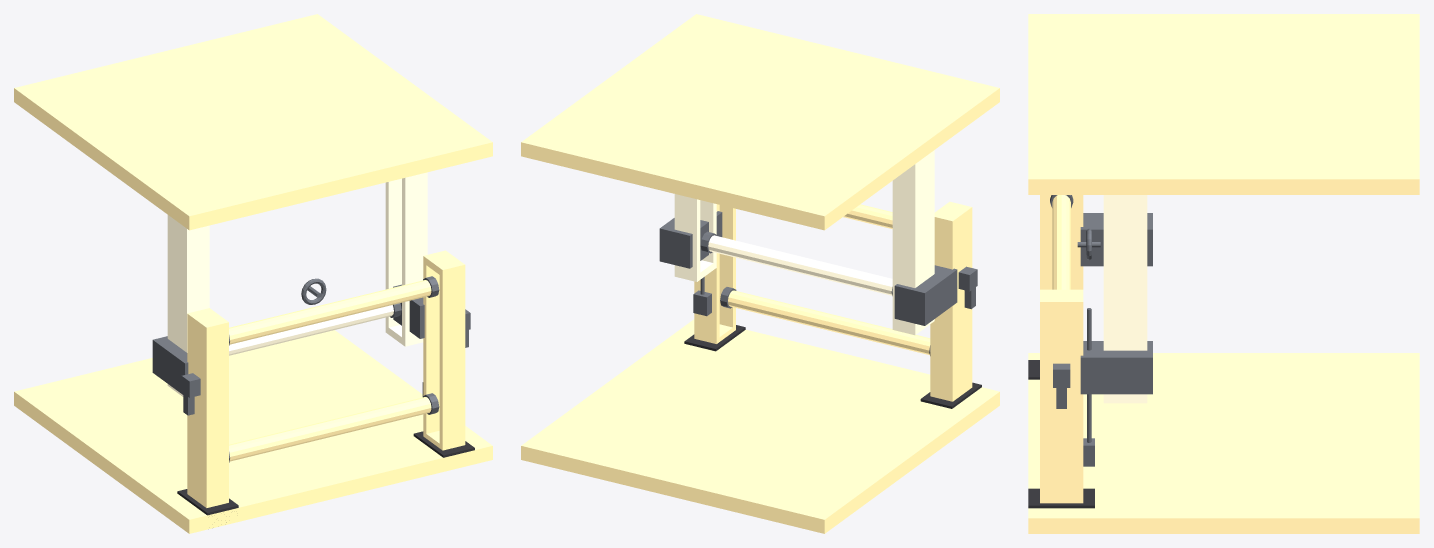
File: ladder_extra_small.glb
3 views of the same model, side by side, from view 1: azimuth 30°, elevation 25°; view 2: azimuth 150°, elevation 25°; view 3: azimuth 270°, elevation 25° (orthographic). The views are drawn at different scales.
Parts seen in each view (by area): view 1: LadderExtraSmall_Top-convcol, LadderExtraSmall_Foot-convcol, LadderExtraSmall_BaseL_Front, LadderExtraSmall_BaseR_Front, LadderExtraSmall_BaseRung1, LadderExtraSmall_BaseRung0, LadderExtraSmall_BaseL_Web-convcol, LadderExtraSmall_FlyR_Front, LadderExtraSmall_FlyL_Web-convcol, LadderExtraSmall_BaseR_Back, LadderExtraSmall_FlyL_Front, LadderExtraSmall_FlyR_Back (+7 smaller); view 2: LadderExtraSmall_Top-convcol, LadderExtraSmall_Foot-convcol, LadderExtraSmall_BaseRung0, LadderExtraSmall_FlyRung0, LadderExtraSmall_BaseL_Web-convcol, LadderExtraSmall_FlyL_Back, LadderExtraSmall_BaseL_Back, LadderExtraSmall_FlyL_Web-convcol, LadderExtraSmall_GuideL, LadderExtraSmall_GuideR, LadderExtraSmall_FlyR_Back, LadderExtraSmall_BaseR_Front (+4 smaller); view 3: LadderExtraSmall_Top-convcol, LadderExtraSmall_Foot-convcol, LadderExtraSmall_FlyR_Web-convcol, LadderExtraSmall_BaseR_Web-convcol, LadderExtraSmall_GuideR, LadderExtraSmall_BaseRung1, LadderExtraSmall_BaseR_Back, LadderExtraSmall_BaseR_Front, LadderExtraSmall_GuideL, LadderExtraSmall_FlyR_Back, LadderExtraSmall_FlyR_Front, LadderExtraSmall_BaseL_Web-convcol (+4 smaller).
Part boxes in pixels (x1,y1,x2,y2): LadderExtraSmall_Top-convcol: (14,14,492,230); LadderExtraSmall_Foot-convcol: (14,330,492,533); LadderExtraSmall_BaseL_Front: (203,321,228,507); LadderExtraSmall_BaseR_Front: (439,262,463,449); LadderExtraSmall_BaseRung1: (229,280,431,344); LadderExtraSmall_BaseRung0: (229,397,431,461); LadderExtraSmall_BaseL_Web-convcol: (187,313,212,506); LadderExtraSmall_FlyR_Front: (402,172,427,339); LadderExtraSmall_FlyL_Web-convcol: (167,215,193,387); LadderExtraSmall_BaseR_Back: (423,251,445,435); LadderExtraSmall_FlyL_Front: (184,225,209,352); LadderExtraSmall_FlyR_Back: (385,178,401,334); LadderExtraSmall_Top-convcol: (521,14,999,230); LadderExtraSmall_Foot-convcol: (521,319,999,533); LadderExtraSmall_BaseRung0: (728,290,930,355); LadderExtraSmall_FlyRung0: (708,235,892,295); LadderExtraSmall_BaseL_Web-convcol: (946,208,972,401); LadderExtraSmall_FlyL_Back: (892,163,918,329); LadderExtraSmall_BaseL_Back: (930,214,955,401); LadderExtraSmall_FlyL_Web-convcol: (909,151,934,327); LadderExtraSmall_GuideL: (894,265,957,325); LadderExtraSmall_GuideR: (659,211,722,268); LadderExtraSmall_FlyR_Back: (674,194,700,281); LadderExtraSmall_BaseR_Front: (719,205,735,330); LadderExtraSmall_Top-convcol: (1028,14,1419,194); LadderExtraSmall_Foot-convcol: (1028,353,1419,533); LadderExtraSmall_FlyR_Web-convcol: (1103,195,1147,403); LadderExtraSmall_BaseR_Web-convcol: (1040,298,1083,497); LadderExtraSmall_GuideR: (1080,341,1152,394); LadderExtraSmall_BaseRung1: (1052,195,1070,289); LadderExtraSmall_BaseR_Back: (1076,289,1083,503); LadderExtraSmall_BaseR_Front: (1040,290,1046,503); LadderExtraSmall_GuideL: (1080,213,1152,266); LadderExtraSmall_FlyR_Back: (1140,195,1147,403); LadderExtraSmall_FlyR_Front: (1103,195,1110,402); LadderExtraSmall_BaseL_Web-convcol: (1047,195,1076,289).
Bounding box in the file's own units: 1.35 × 1.35 × 1.35.
